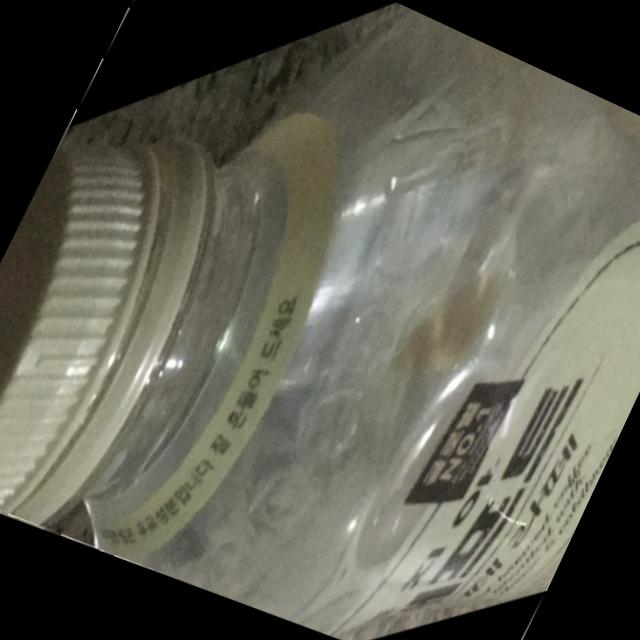plastic: (0, 3, 640, 640)
